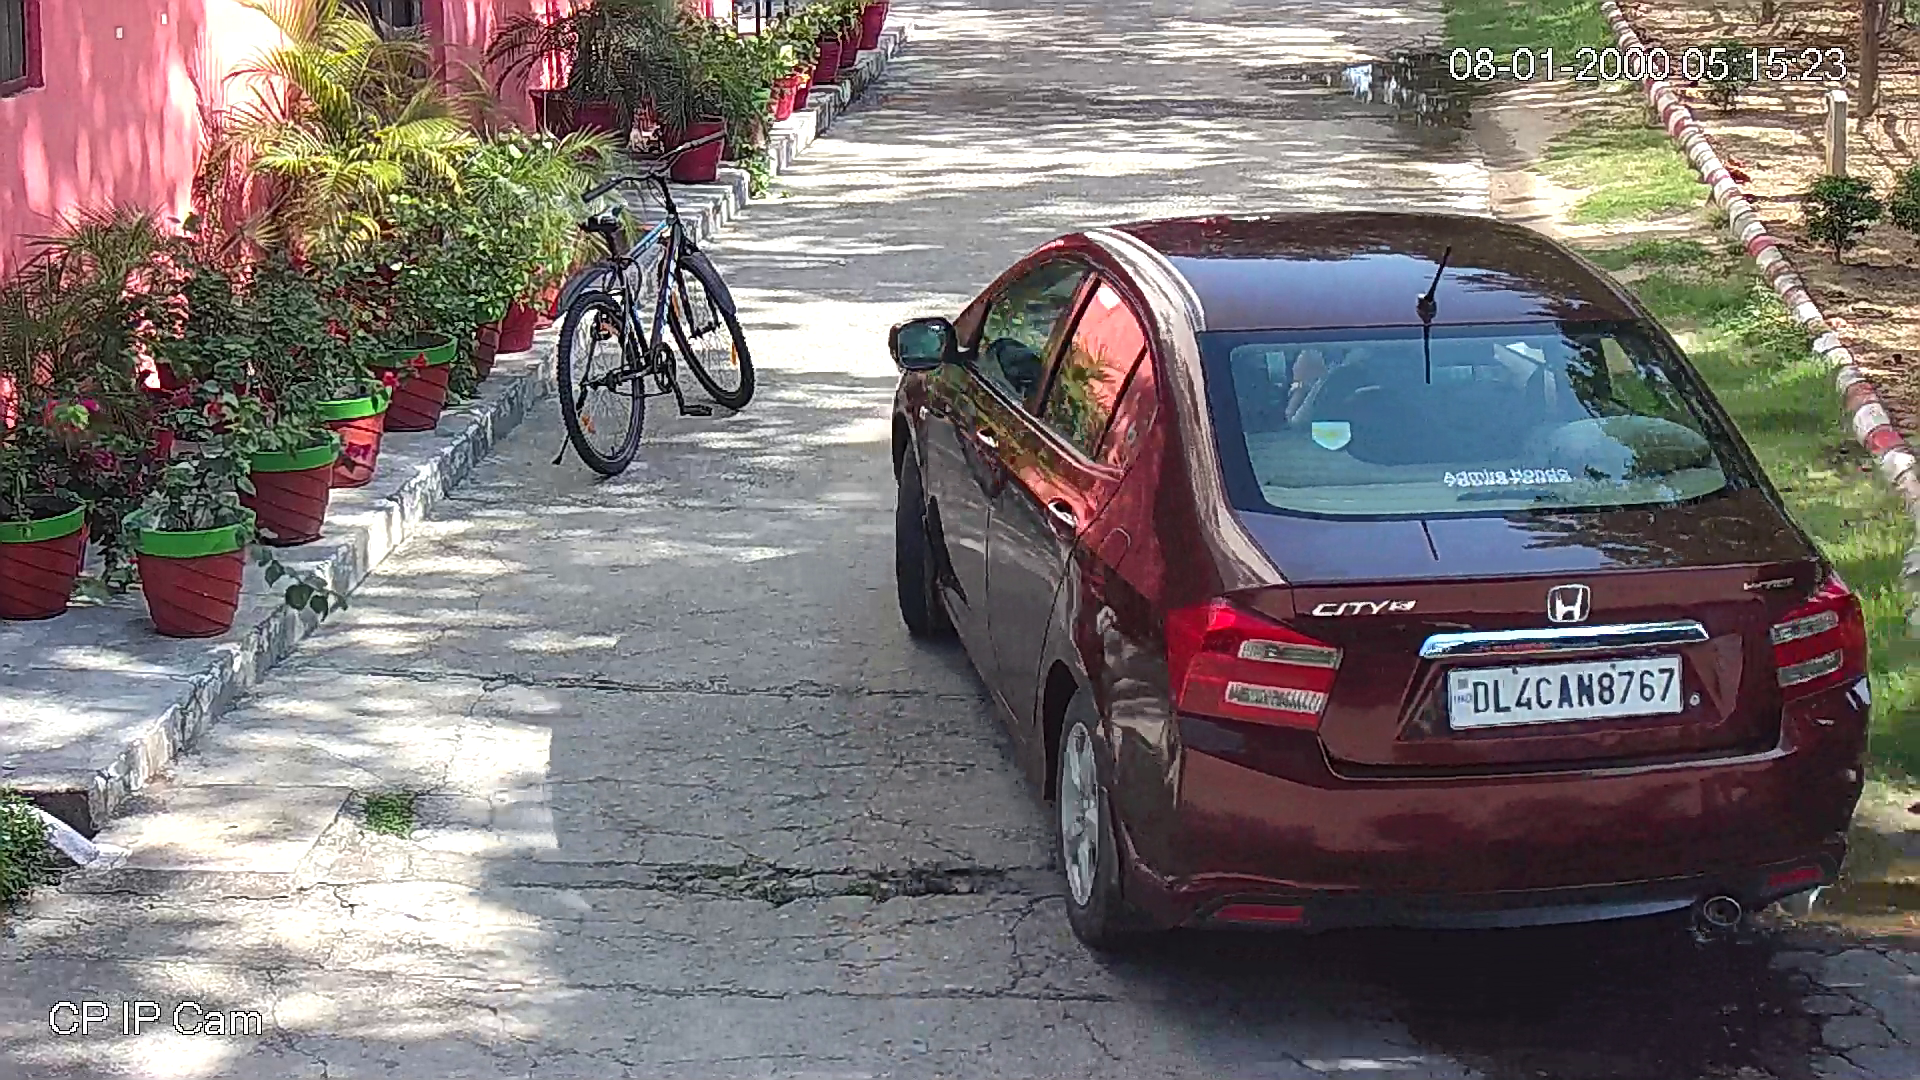plate: (1437, 648, 1689, 736)
